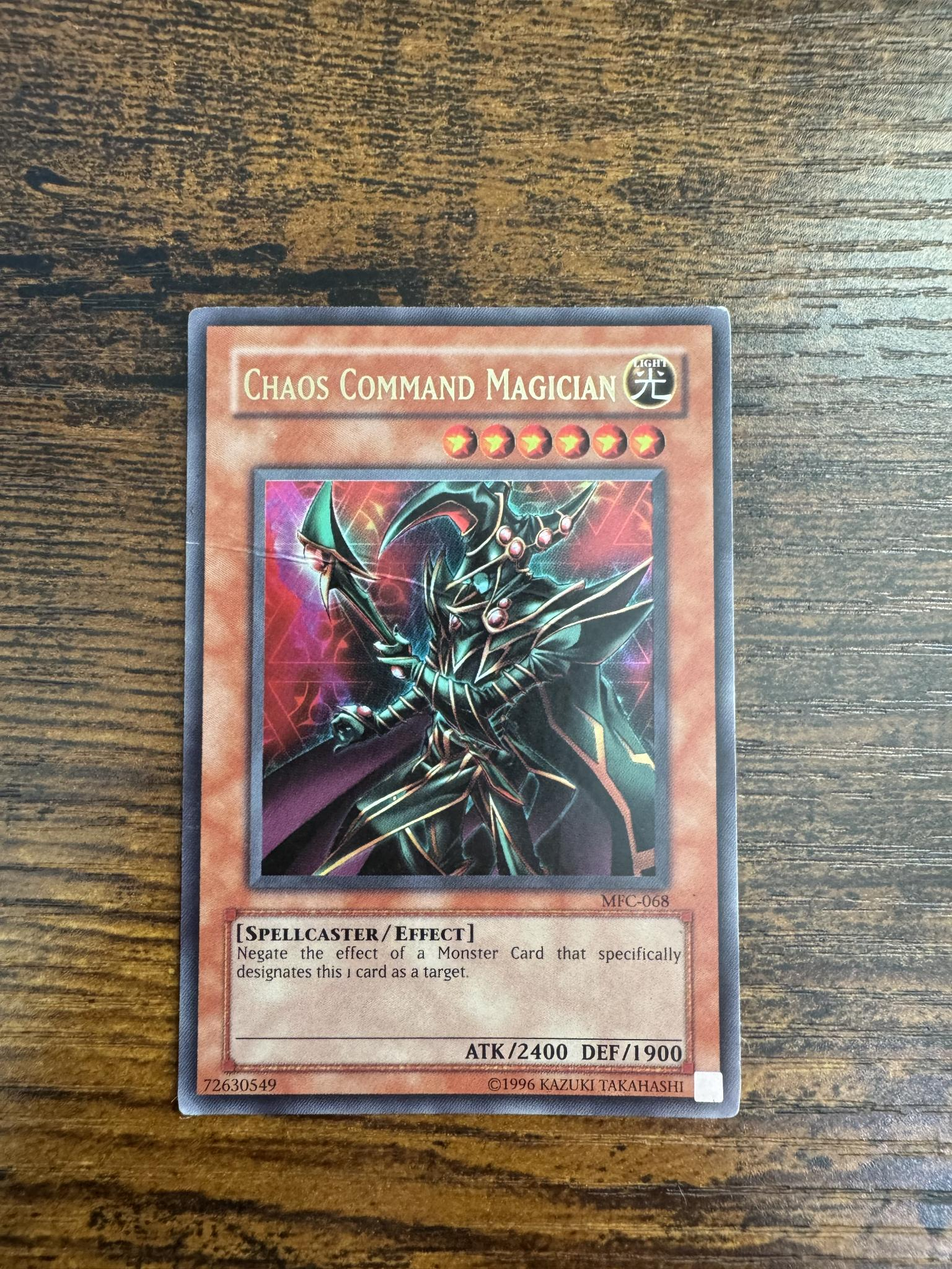card-2UtV: (177, 306, 741, 1118)
